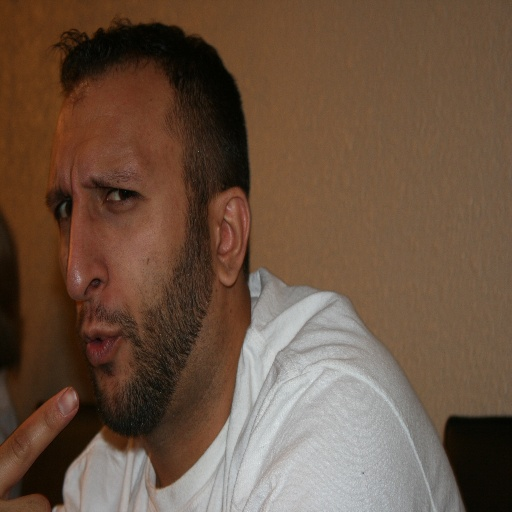hand: (0, 386, 79, 511)
